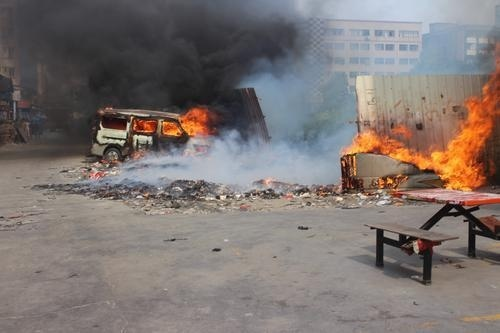fire: (340, 40, 499, 198), (131, 107, 215, 135)
